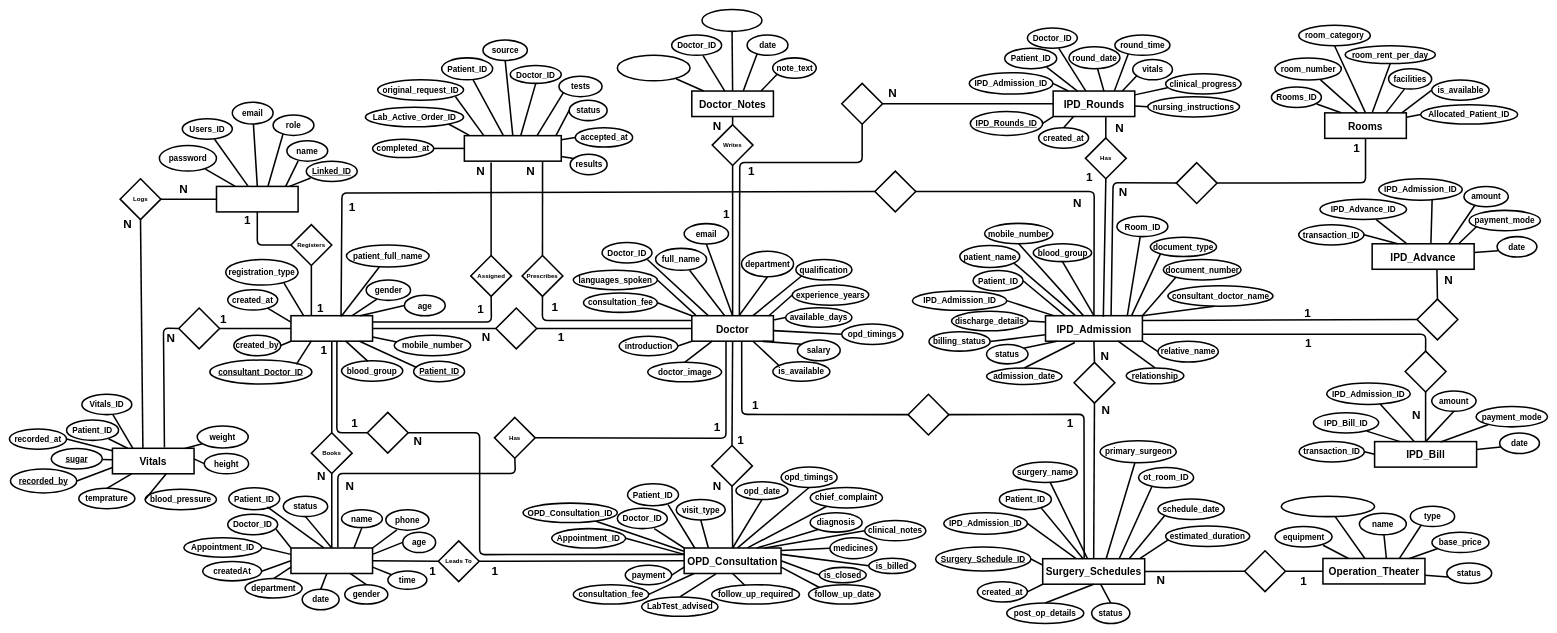
Image size: 1557x633. Some labels were removed from this diagram. Each missing label, with the centre of its shape:
Admitted As: [895,191]
Allocated To: [1196,183]
Appointment: [331,560]
Conducts: [732,465]
Consults: [516,328]
doctor_name: [731,20]
Doctor_Notes_ID: [653,67]
Hosts: [1265,571]
Lab_Active_Order: [512,148]
Operates: [928,414]
Operation_Theater_ID: [1327,506]
Patient: [331,328]
Pays: [1437,319]
Performs: [862,103]
Receives: [1425,371]
Records: [199,328]
Requires: [1094,382]
Undergoes: [387,432]
Users: [257,198]
